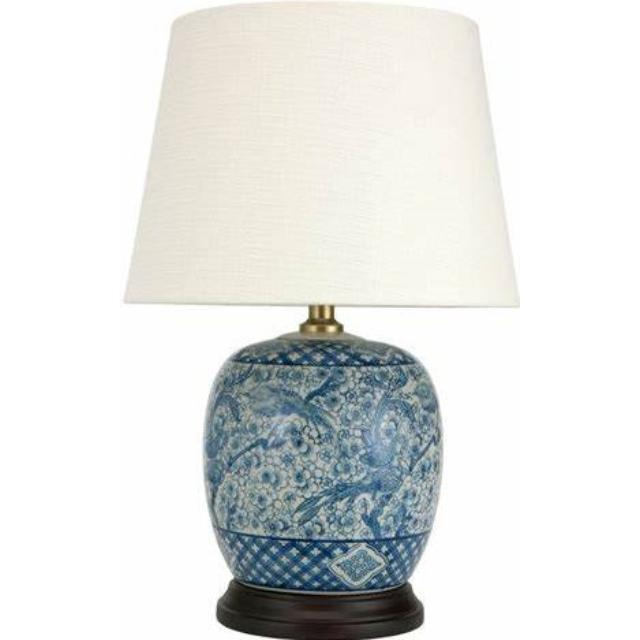lamp: (124, 0, 521, 640)
